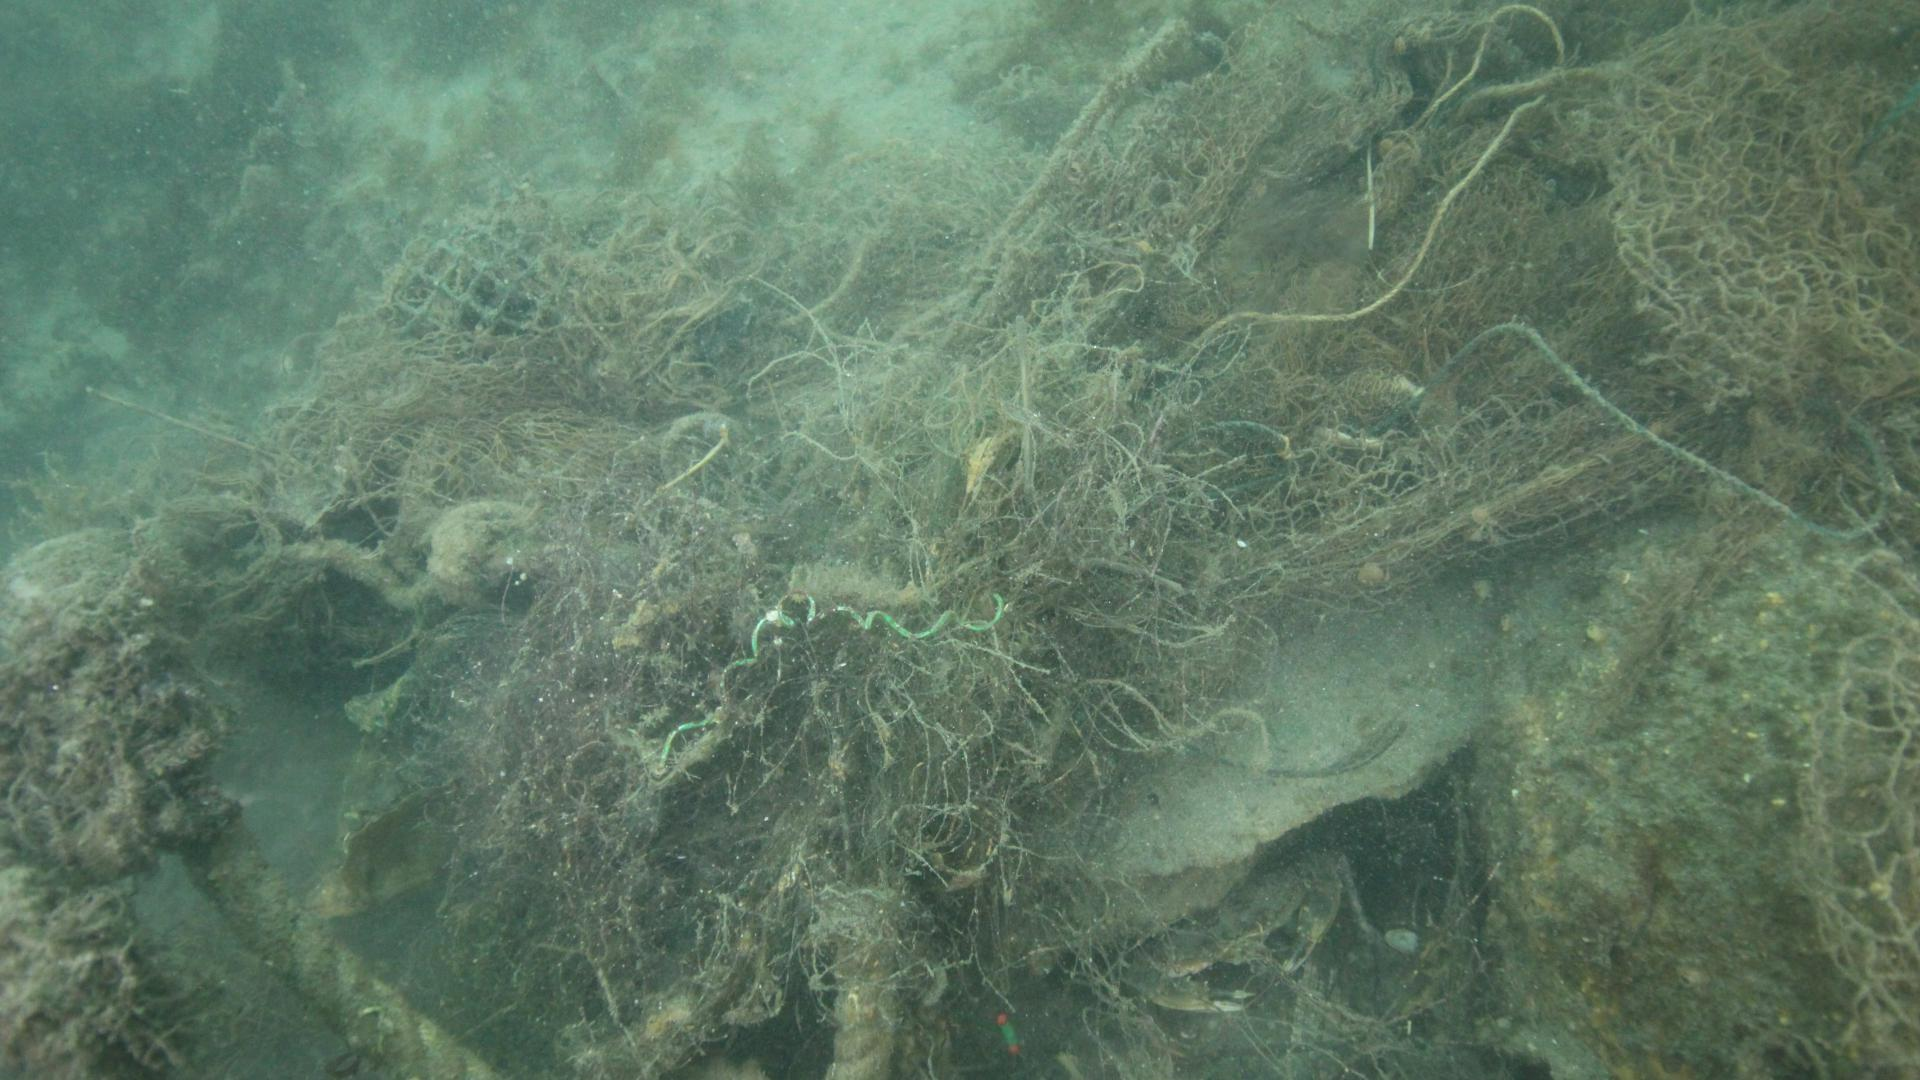fish net: (388, 212, 582, 338)
rope: (185, 824, 498, 1080)
